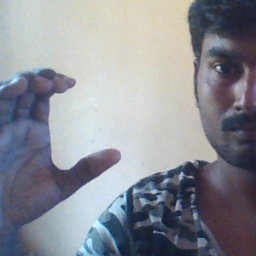C: (9, 59, 126, 201)
